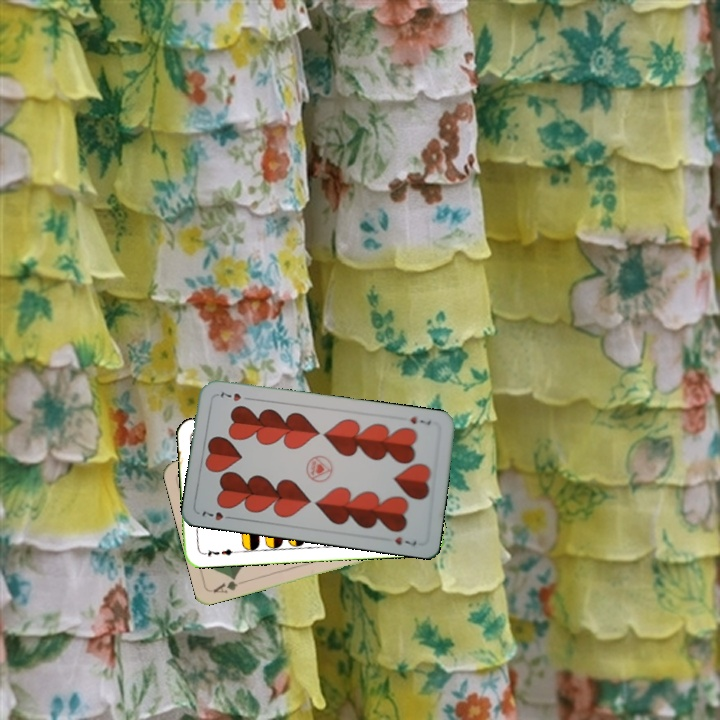E7: (198, 545, 239, 560)
GA: (209, 573, 249, 596)
H7: (198, 506, 237, 523), (406, 412, 433, 427)
